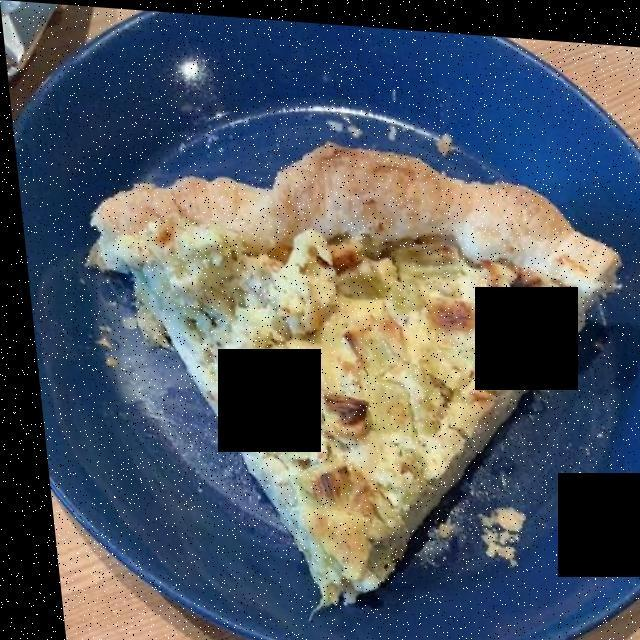pizza: (96, 145, 610, 588)
